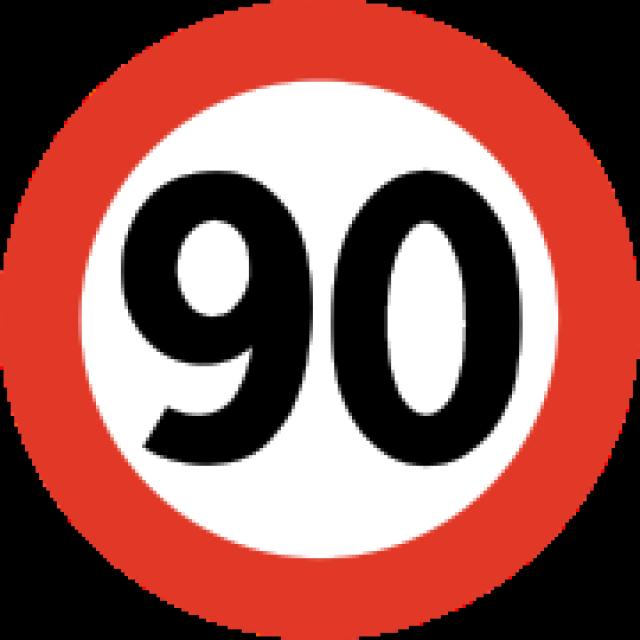Speed Limit -90-: (121, 167, 537, 470)
